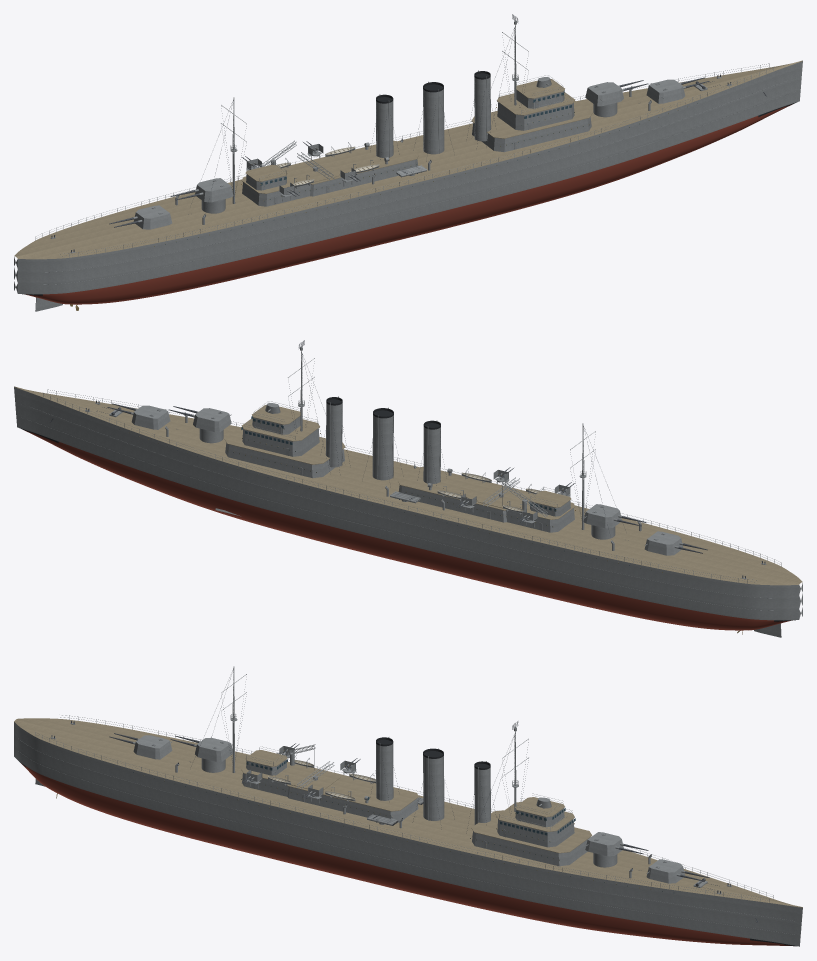
The model's file is demo-norfolk.glb.
3 renders of one model, top to bottom at view 1: azimuth 30°, elevation 25°; view 2: azimuth 150°, elevation 25°; view 3: azimuth 330°, elevation 25°, orthographic.
Parts seen in each view (by area): view 1: HMS Norfolk, 1943 exterior interpretation; view 2: HMS Norfolk, 1943 exterior interpretation; view 3: HMS Norfolk, 1943 exterior interpretation.
Part boxes in pixels (left/top/right/bottom): HMS Norfolk, 1943 exterior interpretation: left=14, top=14, right=802, bottom=311; HMS Norfolk, 1943 exterior interpretation: left=14, top=340, right=802, bottom=637; HMS Norfolk, 1943 exterior interpretation: left=14, top=666, right=802, bottom=946.
Bounding box in the file's own units: 193 × 42.22 × 23.15.
Materials: 8 (2 with a texture image).
